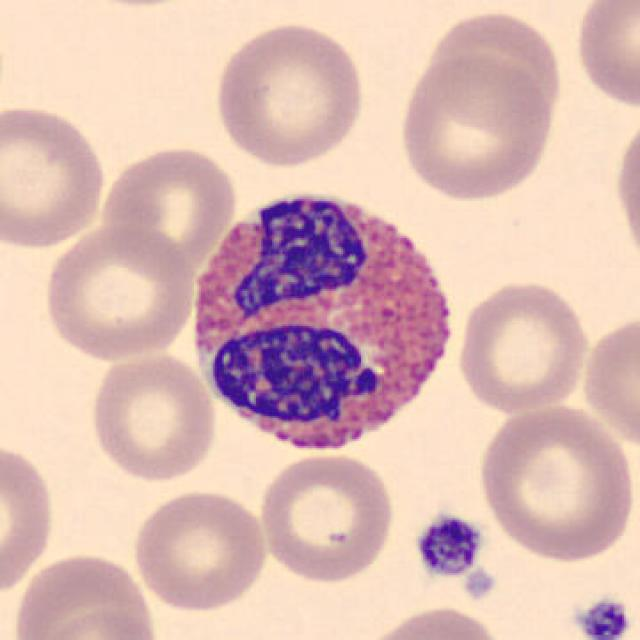Eosinophil: (180, 173, 468, 465)
Platelets: (411, 510, 485, 580), (572, 594, 634, 640), (460, 566, 498, 603)
RBC: (473, 399, 636, 564), (395, 46, 560, 203), (210, 18, 368, 169), (39, 222, 197, 363), (453, 275, 592, 416), (254, 450, 398, 586), (98, 141, 240, 273), (85, 349, 219, 485), (128, 486, 270, 614), (428, 10, 566, 136), (0, 101, 110, 252), (9, 548, 162, 640), (0, 437, 59, 601), (578, 307, 638, 455), (570, 0, 640, 113), (359, 603, 507, 640), (610, 106, 640, 271), (39, 604, 158, 640)
